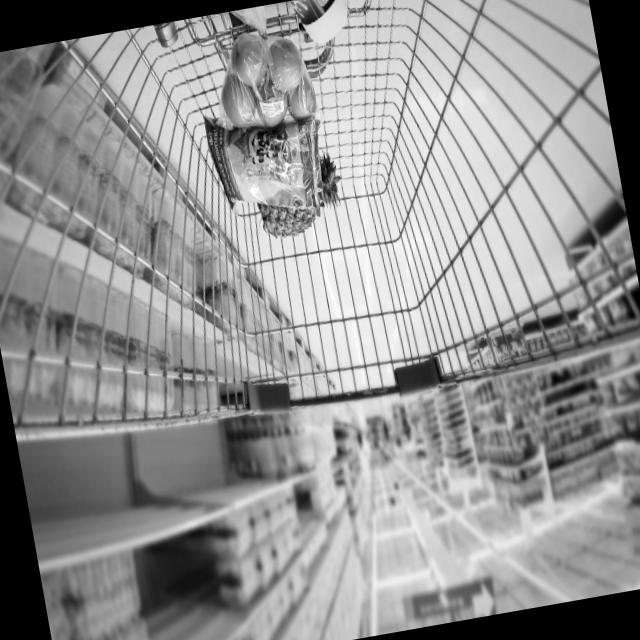dua: (245, 152, 348, 246)
sua: (290, 0, 355, 57)
tao: (210, 22, 324, 136)
